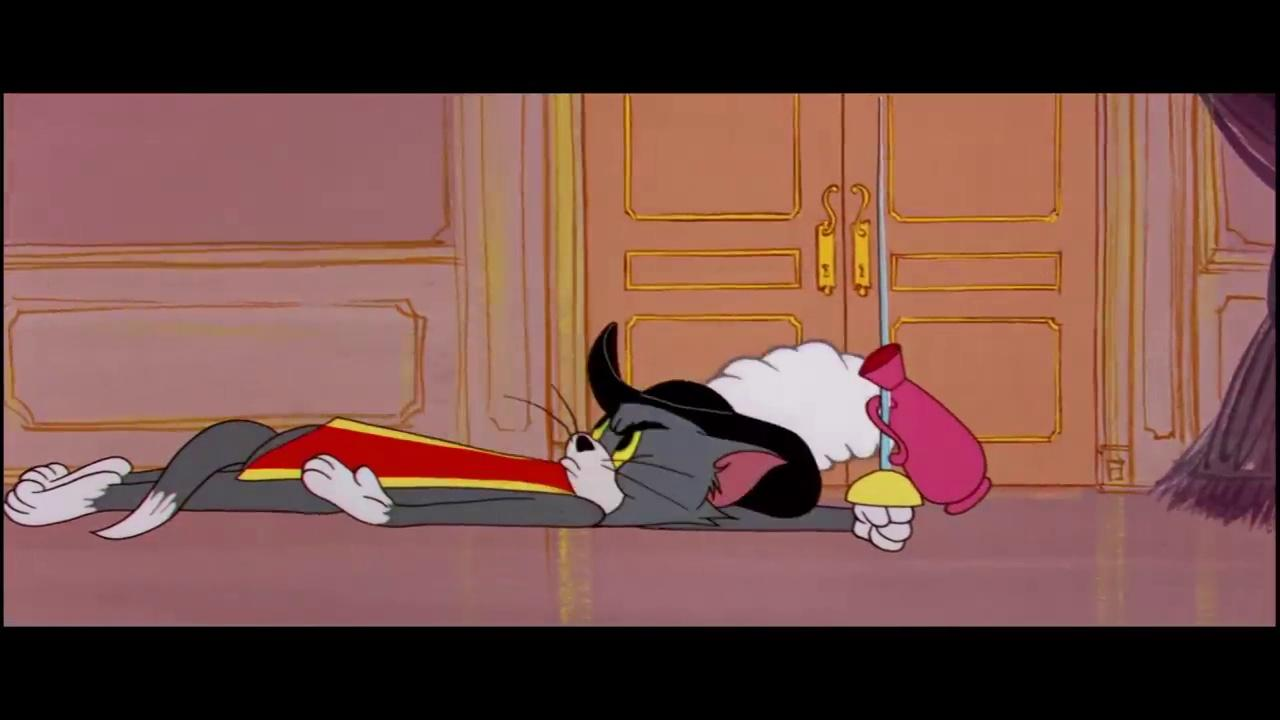Tom: (5, 396, 918, 555)
